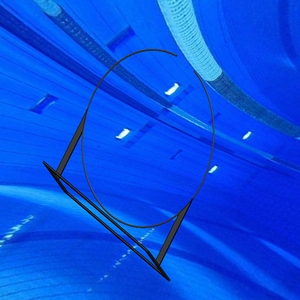circle: (42, 47, 216, 282)
